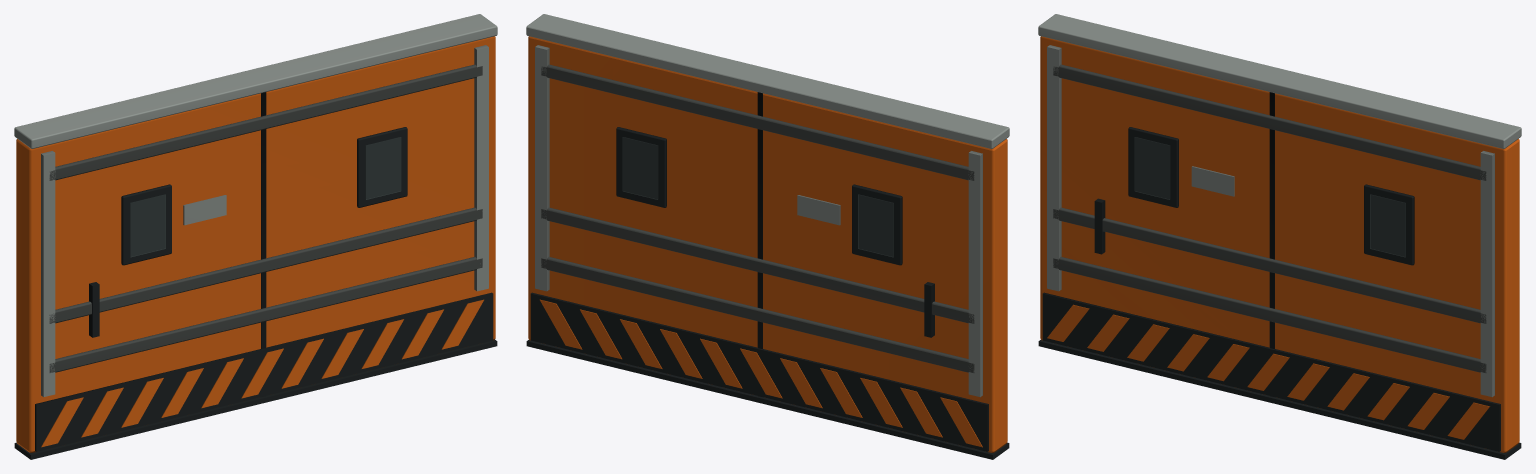
The model's file is bulkhead_door_wide.glb.
3 views of the same model, side by side, from view 1: azimuth 30°, elevation 25°; view 2: azimuth 150°, elevation 25°; view 3: azimuth 330°, elevation 25° (orthographic).
Parts seen in each view (by area): view 1: BulkheadWide; view 2: BulkheadWide; view 3: BulkheadWide.
Boxes of the visible parts, <box> form: BulkheadWide: <box>14,14,497,459</box>; BulkheadWide: <box>526,14,1009,459</box>; BulkheadWide: <box>1038,14,1521,459</box>.
Size of the model in its own units: 3.96 by 2.6 by 0.32.
